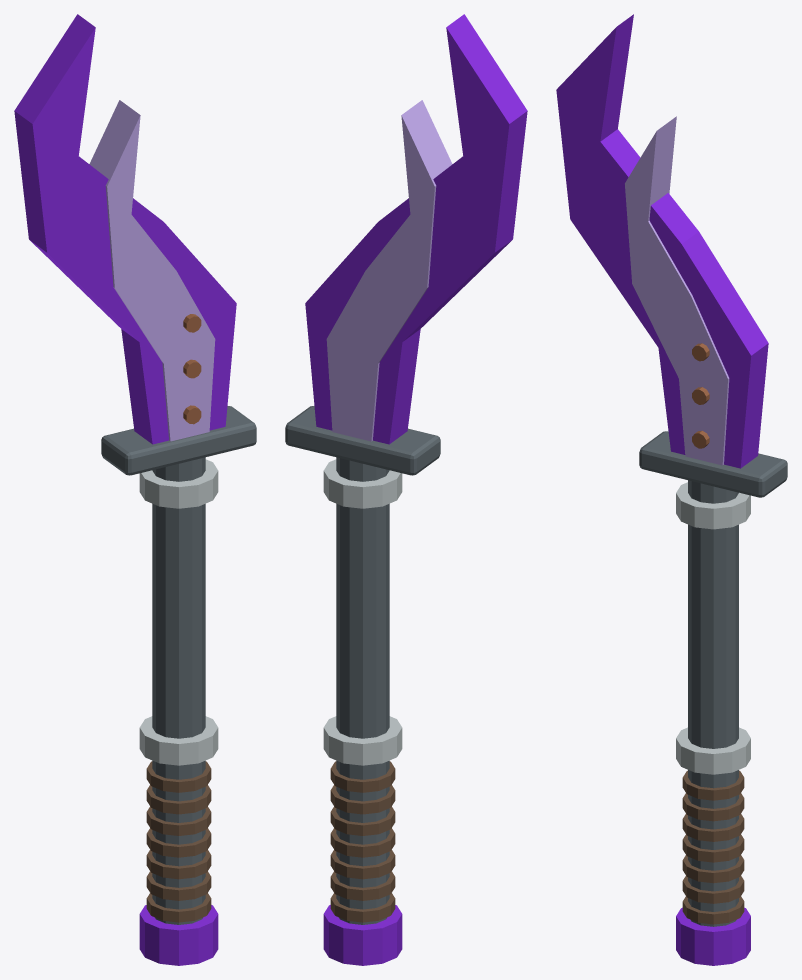
The model's file is EclipseGlaive.fbx.
3 renders of one model, left to right at view 1: azimuth 30°, elevation 25°; view 2: azimuth 150°, elevation 25°; view 3: azimuth 330°, elevation 25°, orthographic. The views are drawn at different scales.
Parts seen in each view (by area): view 1: Silhouette.015, Manche.015, Noyau.015, Garde.015, Pommeau.015, Collier.030, Collier.031, Bande_06.015, Bande_01.015, Bande_03.015, Bande_04.015, Bande_00.015 (+2 smaller); view 2: Silhouette.015, Manche.015, Noyau.015, Garde.015, Pommeau.015, Collier.030, Collier.031, Bande_06.015, Bande_01.015, Bande_03.015, Bande_04.015, Bande_00.015 (+2 smaller); view 3: Silhouette.015, Manche.015, Noyau.015, Garde.015, Pommeau.015, Collier.030, Collier.031, Bande_06.015, Bande_00.015, Bande_03.015, Bande_02.015, Bande_05.015 (+2 smaller).
Boxes of the visible parts, <box> form: Silhouette.015: <box>14,14,236,444</box>; Manche.015: <box>152,457,205,924</box>; Noyau.015: <box>89,100,215,441</box>; Garde.015: <box>101,406,256,475</box>; Pommeau.015: <box>139,905,218,965</box>; Collier.030: <box>139,716,218,765</box>; Collier.031: <box>139,459,218,508</box>; Bande_06.015: <box>146,761,211,792</box>; Bande_01.015: <box>146,871,211,900</box>; Bande_03.015: <box>146,828,211,857</box>; Bande_04.015: <box>146,806,211,835</box>; Bande_00.015: <box>146,893,211,922</box>; Silhouette.015: <box>305,14,527,444</box>; Manche.015: <box>336,457,389,924</box>; Noyau.015: <box>326,100,452,441</box>; Garde.015: <box>285,406,440,475</box>; Pommeau.015: <box>323,905,402,965</box>; Collier.030: <box>323,716,402,765</box>; Collier.031: <box>323,459,402,508</box>; Bande_06.015: <box>330,761,395,792</box>; Bande_01.015: <box>330,871,395,900</box>; Bande_03.015: <box>330,828,395,857</box>; Bande_04.015: <box>330,806,395,835</box>; Bande_00.015: <box>330,893,395,922</box>; Silhouette.015: <box>556,14,768,468</box>; Manche.015: <box>688,480,738,926</box>; Noyau.015: <box>625,116,729,465</box>; Garde.015: <box>639,431,787,497</box>; Pommeau.015: <box>676,907,750,965</box>; Collier.030: <box>676,727,750,774</box>; Collier.031: <box>676,482,750,529</box>; Bande_06.015: <box>682,770,744,800</box>; Bande_00.015: <box>682,896,744,924</box>; Bande_03.015: <box>682,834,744,862</box>; Bande_02.015: <box>682,855,744,883</box>; Bande_05.015: <box>682,793,744,821</box>.
Size of the model in its own units: 91 by 374 by 28.
